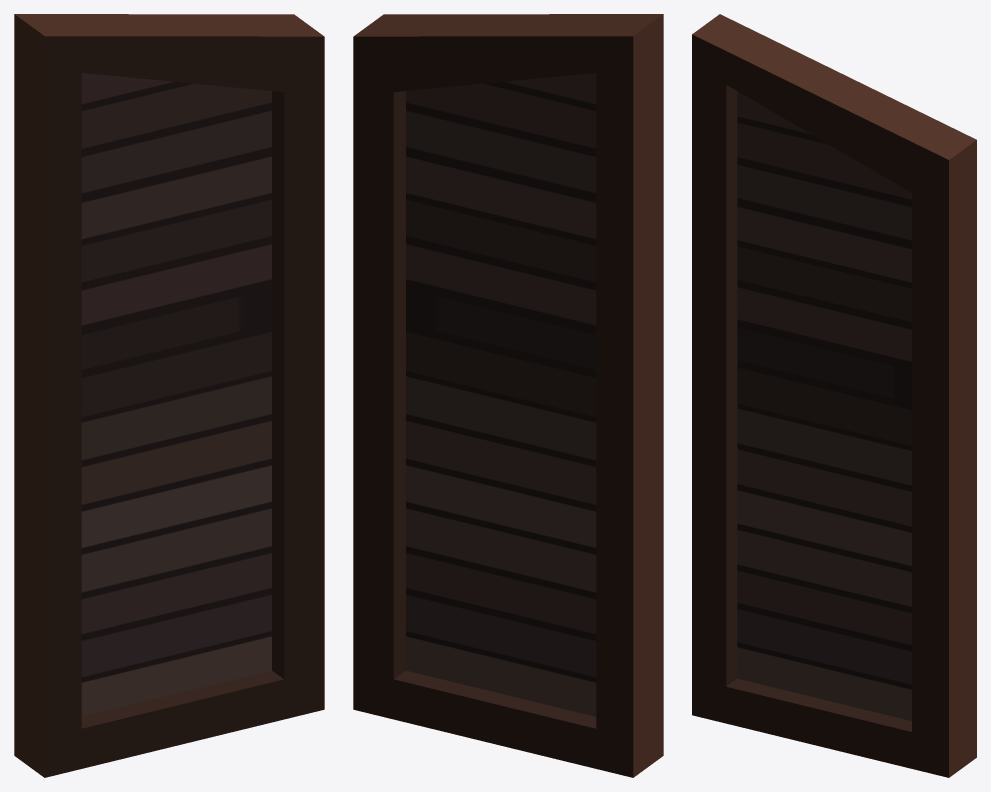
The model's file is Door 11.glb.
The picture shows the model from 3 angles, left to right: view 1: azimuth 30°, elevation 25°; view 2: azimuth 150°, elevation 25°; view 3: azimuth 330°, elevation 25°; orthographic projection. The views are drawn at different scales.
Parts seen in each view (by area): view 1: Door 13A2; view 2: Door 13A2; view 3: Door 13A2.
Boxes of the visible parts, x1,y1,x2,y2 form: Door 13A2: (14,14,324,777); Door 13A2: (353,14,663,777); Door 13A2: (692,14,976,777).
Size of what is drawn, in the model's own units: 0.4858 by 1.23 by 0.0911.
Materials: 2 (2 with a texture image).
